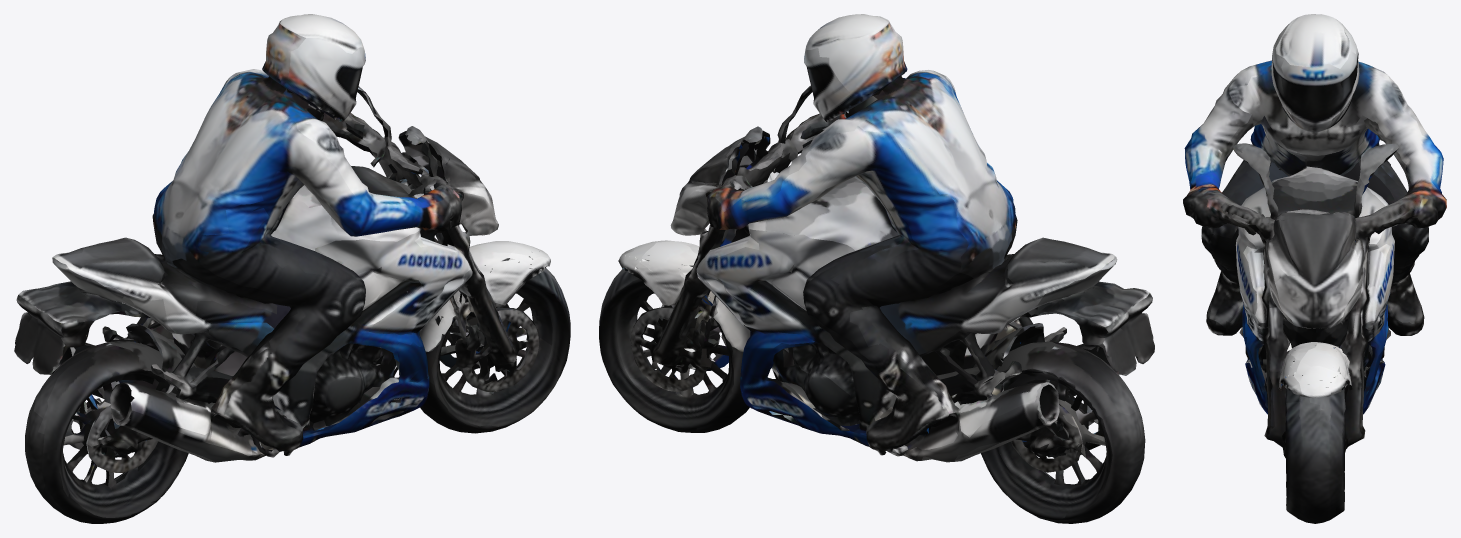
File: Bike Level 3.glb
The picture shows the model from 3 angles, left to right: view 1: azimuth 30°, elevation 25°; view 2: azimuth 150°, elevation 25°; view 3: azimuth 270°, elevation 25°; orthographic projection. The views are drawn at different scales.
Parts seen in each view (by area): view 1: tmpbvno4ir5.ply; view 2: tmpbvno4ir5.ply; view 3: tmpbvno4ir5.ply.
Part boxes in pixels (x1=…): tmpbvno4ir5.ply: x1=14, y1=14, x2=570, y2=523; tmpbvno4ir5.ply: x1=599, y1=14, x2=1154, y2=523; tmpbvno4ir5.ply: x1=1183, y1=14, x2=1446, y2=523.
Size of the model in its own units: 1.96 by 1.58 by 0.9113.
Materials: 1 (1 with a texture image).
